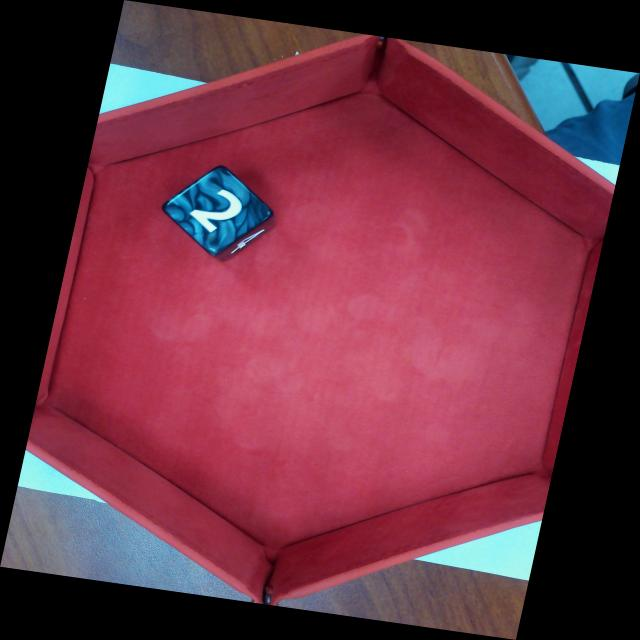dice: (157, 161, 279, 259)
